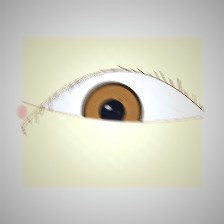pinguecula_lesion: (38, 90, 83, 126)
